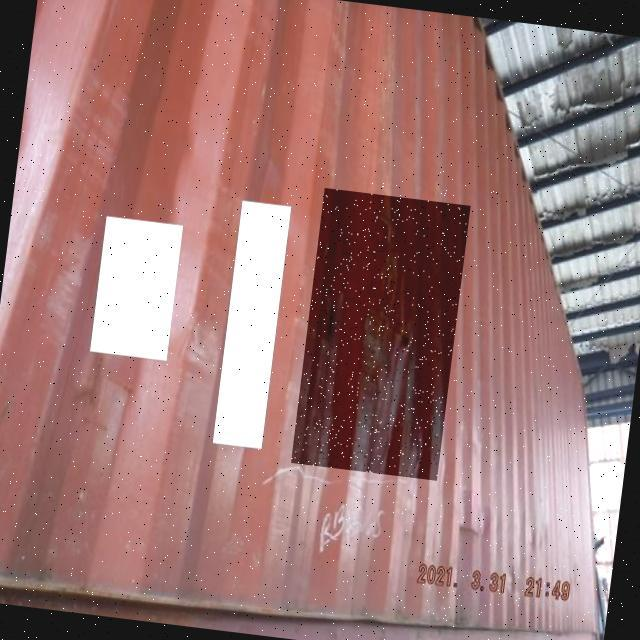Dent: (290, 188, 470, 481)
